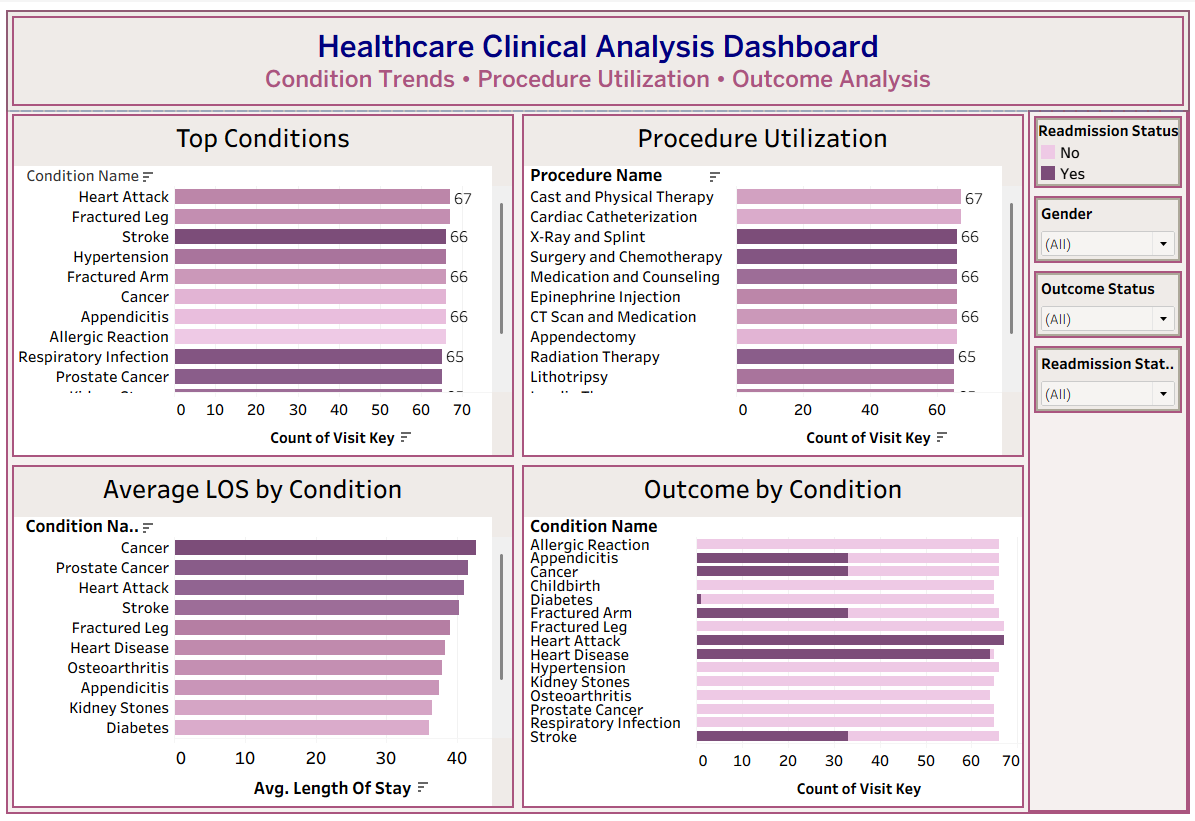

The page's visual inventory and layout, read from the dashboard file:
{"tool":"tableau","page":{"name":"Clinical Analysis","canvas":[1000,1000],"units":"permille","ordinal":0},"visuals":[{"type":"title","box":[8.3,12.2,983.3,119.5]},{"type":"worksheet","title":"Top Conditions","mark":"Automatic","rows":["condition_name"],"cols":["visit_key"],"box":[8.3,131.7,425,428]},{"type":"worksheet","title":"Procedure Utilization","mark":"Automatic","rows":["procedure_name"],"cols":["visit_key"],"box":[433.3,131.7,425,428]},{"type":"legend","title":"Outcome by Condition","param":"[federated.09amc9a0nf9yrx1ezv74z11mnc8v].[none:readmission_status:nk]","box":[860,134.2,130,97.6]},{"type":"filter","title":"Average LOS by Condition","param":"[federated.09amc9a0nf9yrx1ezv74z11mnc8v].[none:gender:nk]","box":[860,231.7,130,91.5]},{"type":"filter","title":"Average LOS by Condition","param":"[federated.09amc9a0nf9yrx1ezv74z11mnc8v].[none:outcome_status:nk]","box":[860,323.2,130,91.5]},{"type":"filter","title":"Average LOS by Condition","param":"[federated.09amc9a0nf9yrx1ezv74z11mnc8v].[none:readmission_status:nk]","box":[860,414.7,130,91.5]},{"type":"worksheet","title":"Average LOS by Condition","mark":"Automatic","rows":["condition_name"],"cols":["length_of_stay"],"box":[8.3,559.7,425,428.1]},{"type":"worksheet","title":"Outcome by Condition","mark":"Automatic","rows":["condition_name"],"cols":["visit_key"],"box":[433.3,559.7,425,428.1]}]}

Visuals, with their boxes on the dashboard's canvas, which has no fixed pixel size, in thousandths of its width and height (x1, y1, x2, y2). These are canvas units, not pixel positions in the 1195x821 screenshot, which may show the page scaled, cropped or inside an application window:
title: 8,12,992,132
"Top Conditions" worksheet: 8,132,433,560
"Procedure Utilization" worksheet: 433,132,858,560
"Outcome by Condition" legend: 860,134,990,232
"Average LOS by Condition" filter: 860,232,990,323
"Average LOS by Condition" filter: 860,323,990,415
"Average LOS by Condition" filter: 860,415,990,506
"Average LOS by Condition" worksheet: 8,560,433,988
"Outcome by Condition" worksheet: 433,560,858,988
